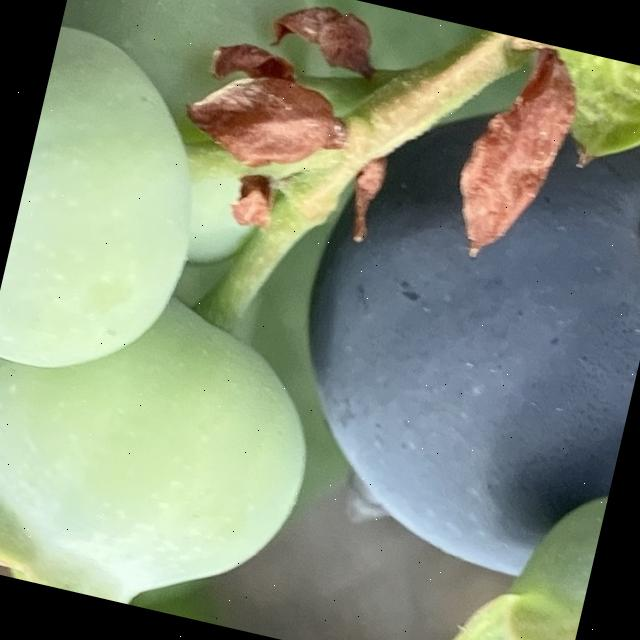Blueberries: (259, 70, 640, 598), (0, 261, 340, 637), (0, 4, 256, 431)
